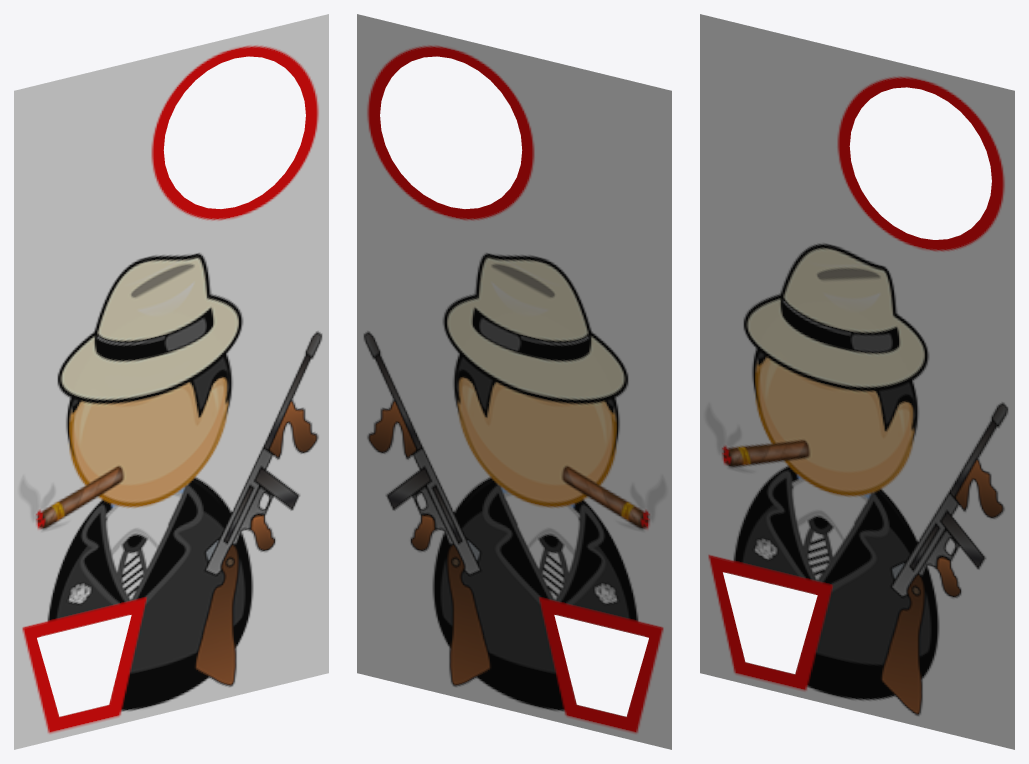
File: bootleggerTorpedoCutout.dae
The picture shows the model from 3 angles, left to right: view 1: azimuth 30°, elevation 25°; view 2: azimuth 150°, elevation 25°; view 3: azimuth 330°, elevation 25°; orthographic projection.
Parts seen in each view (by area): view 1: Plane.001; view 2: Plane.001; view 3: Plane.001.
Part boxes in pixels (x1,y1,x2,y2): Plane.001: (14,14,328,749); Plane.001: (357,14,671,749); Plane.001: (700,14,1014,749).
Size of the model in its own units: 0.1524 by 0 by 0.3048.
1 material, 1 textured.
